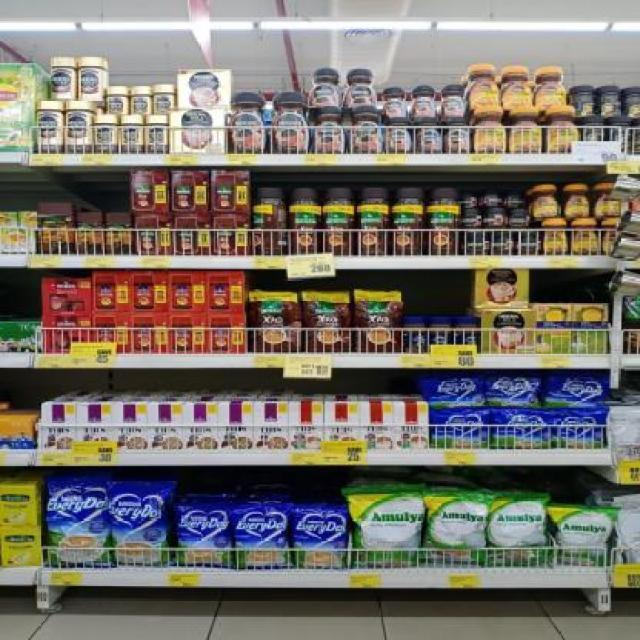Coffee: (272, 93, 310, 154), (229, 93, 267, 154), (348, 107, 384, 154), (545, 108, 578, 154), (314, 108, 347, 154), (473, 107, 505, 153), (508, 108, 541, 152), (500, 67, 533, 108), (36, 100, 60, 153), (470, 63, 500, 105), (343, 69, 377, 106), (65, 101, 89, 152), (311, 68, 341, 106), (50, 57, 76, 98), (537, 68, 565, 106), (385, 118, 414, 154), (444, 118, 471, 154), (416, 116, 442, 153), (542, 219, 568, 256), (79, 57, 101, 99), (594, 184, 621, 216), (563, 184, 589, 217), (573, 221, 599, 254), (438, 86, 465, 117), (93, 115, 115, 153), (410, 86, 436, 117), (147, 115, 168, 153), (533, 185, 557, 217), (121, 116, 141, 153), (383, 87, 405, 116), (154, 85, 175, 115), (107, 87, 125, 115), (131, 87, 149, 115), (466, 233, 488, 254), (518, 235, 541, 254), (482, 209, 504, 228), (492, 235, 513, 254), (458, 208, 480, 226), (459, 190, 480, 207), (507, 212, 529, 228), (485, 189, 504, 206), (507, 193, 526, 209)
